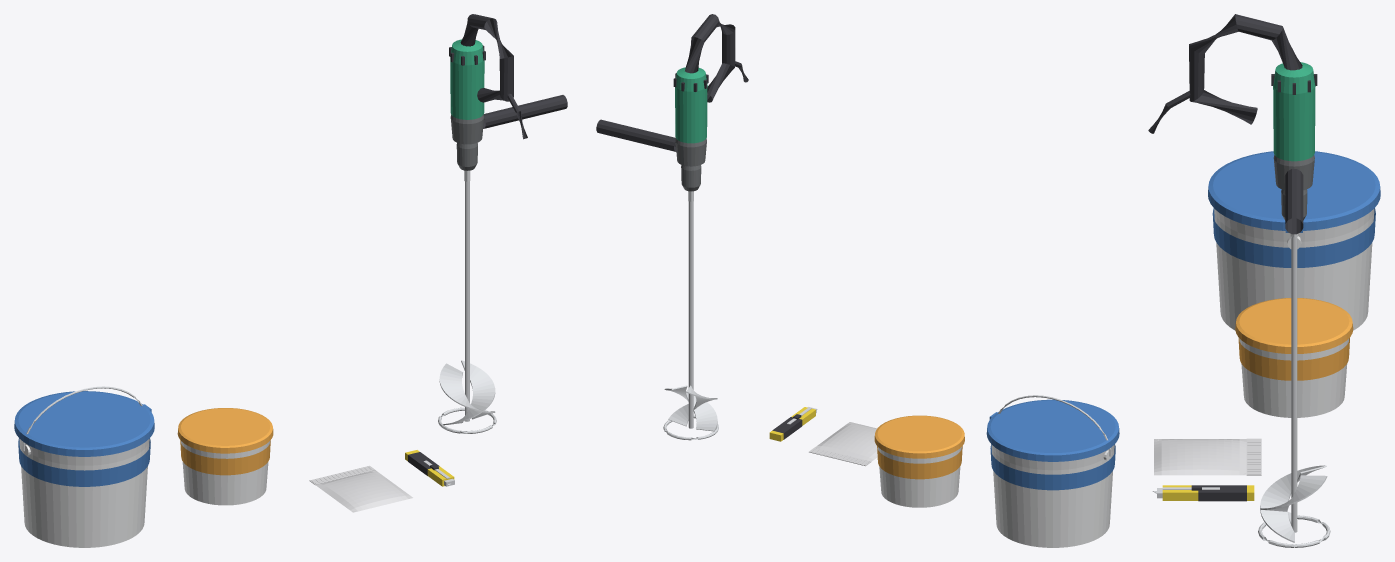
File: adhesive_kit.glb
The picture shows the model from 3 angles, left to right: view 1: azimuth 30°, elevation 25°; view 2: azimuth 150°, elevation 25°; view 3: azimuth 270°, elevation 25°; orthographic projection. The views are drawn at different scales.
Visible parts, largest first — view 1: Pail_A_Body, Pail_A_LidMesh, Pail_B_LidMesh, Pail_B_Body, Mixer_Motor, Bag_Body, Pail_A_Band, Mixer_RearGrip, Pail_B_Band, Mixer_SideGrip, Mixer_Shaft, Mixer_BladeR (+2 smaller); view 2: Pail_A_Body, Pail_A_LidMesh, Pail_B_LidMesh, Pail_B_Body, Mixer_Motor, Pail_A_Band, Mixer_RearGrip, Bag_Body, Pail_B_Band, Mixer_Shaft, Mixer_SideGrip, Mixer_BladeR (+1 smaller); view 3: Pail_A_Body, Pail_A_LidMesh, Pail_B_LidMesh, Pail_B_Body, Mixer_Motor, Bag_Body, Mixer_RearGrip, Pail_A_Band, Pail_B_Band, Mixer_Shaft, Mixer_BladeL, Mixer_SideGrip (+7 smaller).
Boxes of the visible parts, left/top/right/bottom form: Pail_A_Body: left=19, top=439, right=149, bottom=547; Pail_A_LidMesh: left=14, top=391, right=154, bottom=456; Pail_B_LidMesh: left=177, top=408, right=273, bottom=453; Pail_B_Body: left=181, top=441, right=269, bottom=505; Mixer_Motor: left=450, top=39, right=484, bottom=119; Bag_Body: left=315, top=470, right=412, bottom=512; Pail_A_Band: left=18, top=438, right=150, bottom=486; Mixer_RearGrip: left=460, top=14, right=513, bottom=102; Pail_B_Band: left=180, top=440, right=270, bottom=475; Mixer_SideGrip: left=483, top=95, right=567, bottom=128; Mixer_Shaft: left=465, top=181, right=469, bottom=421; Mixer_BladeR: left=443, top=360, right=495, bottom=425; Pail_A_Body: left=991, top=445, right=1114, bottom=547; Pail_A_LidMesh: left=986, top=399, right=1119, bottom=461; Pail_B_LidMesh: left=874, top=415, right=964, bottom=458; Pail_B_Body: left=878, top=447, right=961, bottom=507; Mixer_Motor: left=675, top=67, right=707, bottom=143; Pail_A_Band: left=990, top=444, right=1115, bottom=490; Mixer_RearGrip: left=685, top=14, right=735, bottom=102; Bag_Body: left=815, top=422, right=877, bottom=461; Pail_B_Band: left=877, top=446, right=962, bottom=479; Mixer_Shaft: left=688, top=201, right=693, bottom=428; Mixer_SideGrip: left=596, top=119, right=676, bottom=151; Mixer_BladeR: left=664, top=385, right=717, bottom=431; Pail_A_Body: left=1214, top=208, right=1374, bottom=330; Pail_A_LidMesh: left=1208, top=151, right=1380, bottom=230; Pail_B_LidMesh: left=1235, top=298, right=1353, bottom=353; Pail_B_Body: left=1239, top=338, right=1348, bottom=417; Mixer_Motor: left=1273, top=62, right=1315, bottom=161; Bag_Body: left=1154, top=439, right=1246, bottom=475; Mixer_RearGrip: left=1189, top=14, right=1302, bottom=124; Pail_A_Band: left=1212, top=208, right=1375, bottom=267; Pail_B_Band: left=1238, top=338, right=1349, bottom=380; Mixer_Shaft: left=1291, top=237, right=1297, bottom=532; Mixer_BladeL: left=1260, top=465, right=1326, bottom=542; Mixer_SideGrip: left=1285, top=169, right=1303, bottom=234.
Size of the model in its own units: 1.34 by 1.03 by 0.4061.
